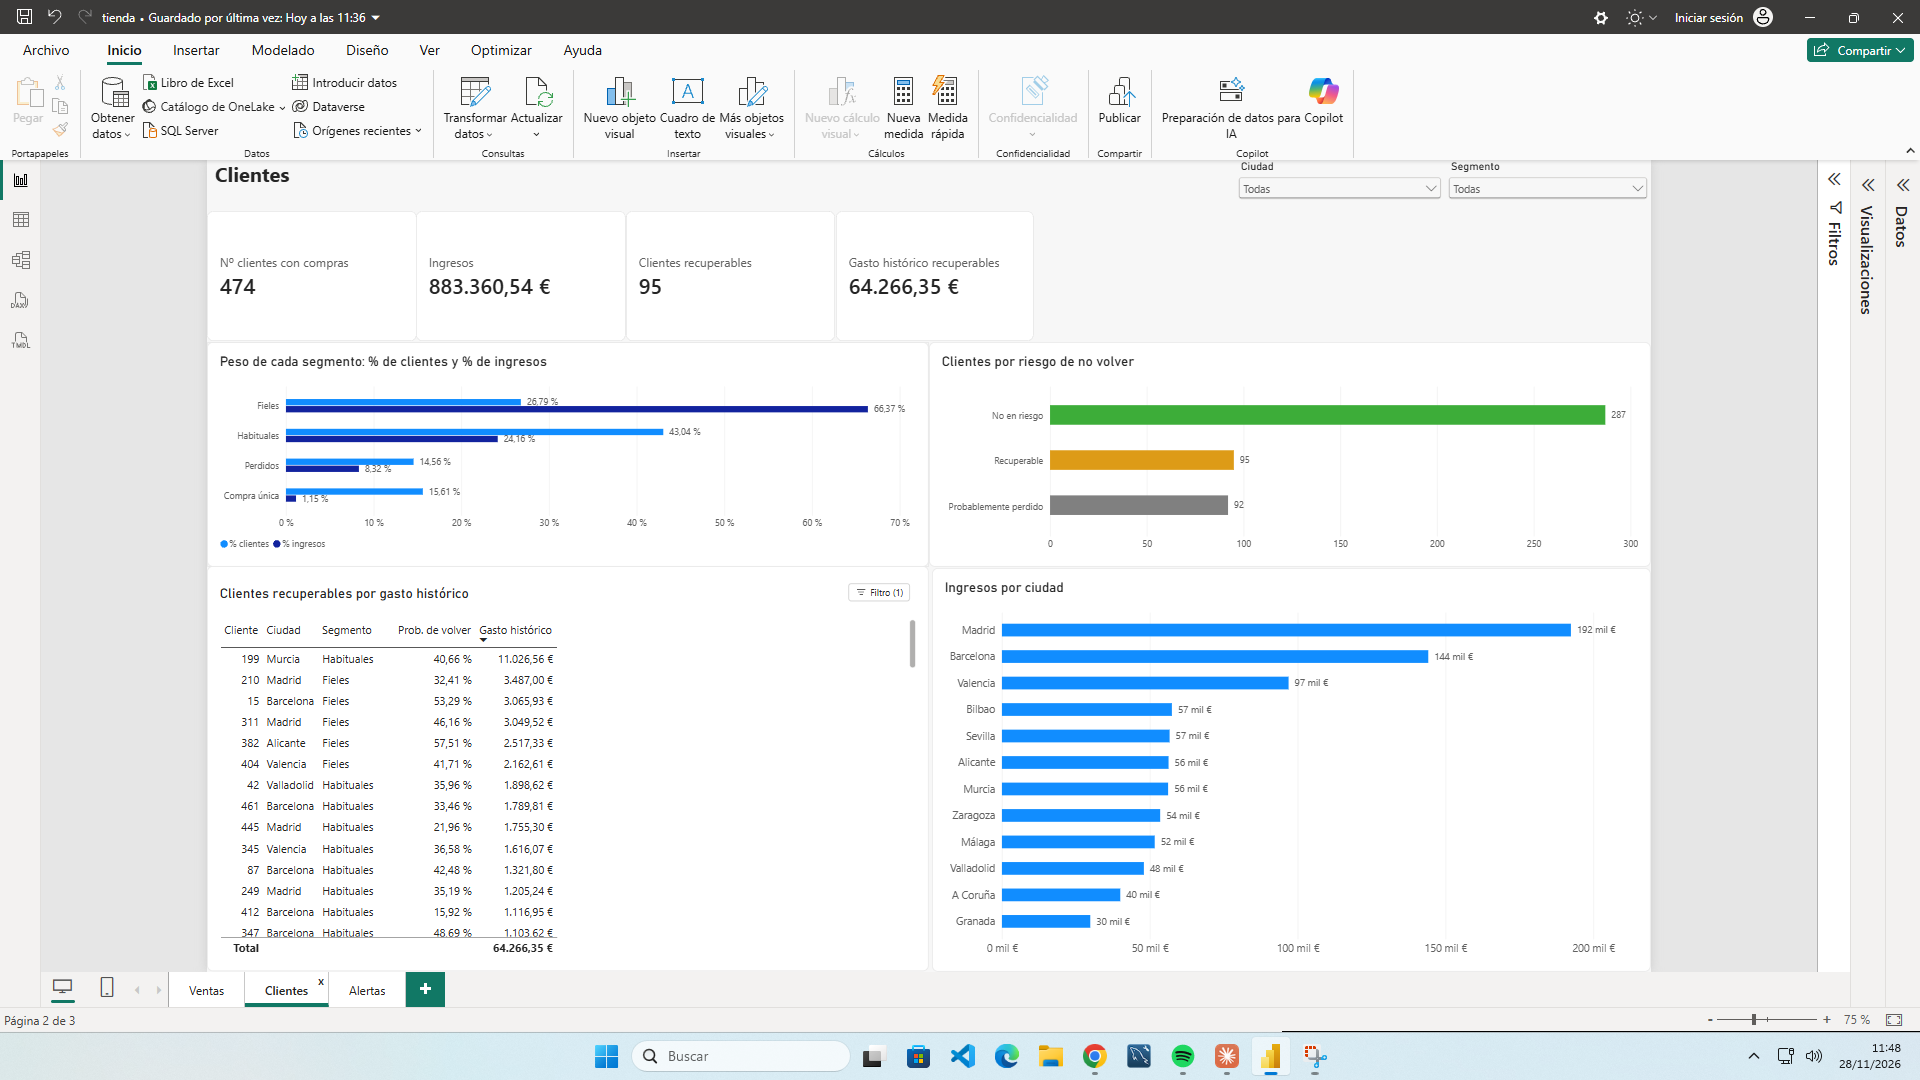

Layout of this report page (visuals, bound fields, positions):
{"tool":"powerbi","page":{"name":"Clientes","canvas":[1920,1080],"ordinal":1},"visuals":[{"type":"slicer","fields":{"Values":["dim_cliente.nombre_segmento"]},"box":[1646.1,0,274.3,72.9],"z":0},{"type":"slicer","fields":{"Values":["dim_cliente.ciudad"]},"box":[1367.9,0,278.7,72.3],"z":1},{"type":"clusteredBarChart","title":"Peso de cada segmento: % de clientes y % de ingresos","fields":{"Category":["dim_cliente.nombre_segmento"],"Y":["_Medidas.% clientes","_Medidas.% ingresos"]},"box":[0,241.8,960,299.4],"z":2},{"type":"clusteredBarChart","title":"Clientes por riesgo de no volver","fields":{"Category":["dim_cliente.accion"],"Y":["_Medidas.Nº clientes"]},"box":[960,241.8,960,299],"z":3},{"type":"tableEx","title":"Clientes recuperables por gasto histórico ","fields":{"Values":["dim_cliente.id_cliente","dim_cliente.ciudad","dim_cliente.nombre_segmento","dim_cliente.prob_volver","_Medidas.Ingresos"]},"box":[0,540.5,960,539],"z":4},{"type":"textbox","box":[10.1,0,269.1,67.6],"z":5},{"type":"cardVisual","fields":{"Data":["_Medidas.Nº clientes con compras"]},"box":[0,68.5,279.7,173.4],"z":6},{"type":"cardVisual","fields":{"Data":["_Medidas.Ingresos"]},"box":[278.2,68.5,279.7,173.4],"z":7},{"type":"cardVisual","fields":{"Data":["_Medidas.Clientes recuperables"]},"box":[557.9,68.5,278.2,173.4],"z":8},{"type":"cardVisual","fields":{"Data":["_Medidas.Gasto histórico recuperables"]},"box":[836.2,68.5,263.7,173.4],"z":9},{"type":"clusteredBarChart","fields":{"Category":["dim_cliente.ciudad"],"Y":["_Medidas.Ingresos"]},"box":[964.2,542.9,955.8,537.3],"z":10}]}

Visuals, with their boxes on the page's 1920x1080 design canvas (x1, y1, x2, y2). These are canvas units, not pixel positions in the 1920x1080 screenshot, which may show the page scaled, cropped or inside an application window:
slicer - dim_cliente.nombre_segmento: (1646, 0, 1920, 73)
slicer - dim_cliente.ciudad: (1368, 0, 1647, 72)
"Peso de cada segmento: % de clientes y % de ingresos" clusteredBarChart: (0, 242, 960, 541)
"Clientes por riesgo de no volver" clusteredBarChart: (960, 242, 1920, 541)
"Clientes recuperables por gasto histórico " tableEx: (0, 540, 960, 1080)
textbox: (10, 0, 279, 68)
cardVisual - _Medidas.Nº clientes con compras: (0, 68, 280, 242)
cardVisual - _Medidas.Ingresos: (278, 68, 558, 242)
cardVisual - _Medidas.Clientes recuperables: (558, 68, 836, 242)
cardVisual - _Medidas.Gasto histórico recuperables: (836, 68, 1100, 242)
clusteredBarChart - dim_cliente.ciudad x _Medidas.Ingresos: (964, 543, 1920, 1080)
